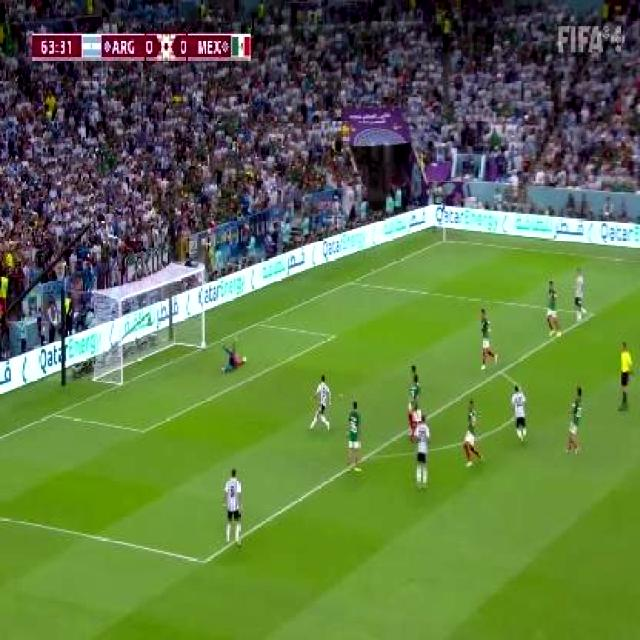bigarea_bottom_inner: (198, 552, 211, 571)
bigarea_top_inner: (586, 306, 594, 319)
bigarea_top_outter: (346, 277, 354, 286)
bottom_arc_area_intersection: (346, 460, 356, 472)
corner: (438, 237, 449, 243)
smallarea_bottom_inner: (137, 423, 149, 440)
smallarea_bottom_outter: (49, 408, 60, 420)
smallarea_top_inner: (328, 331, 335, 342)
smallarea_top_outter: (252, 317, 262, 328)
top_arc_area_intersection: (496, 365, 504, 377)
